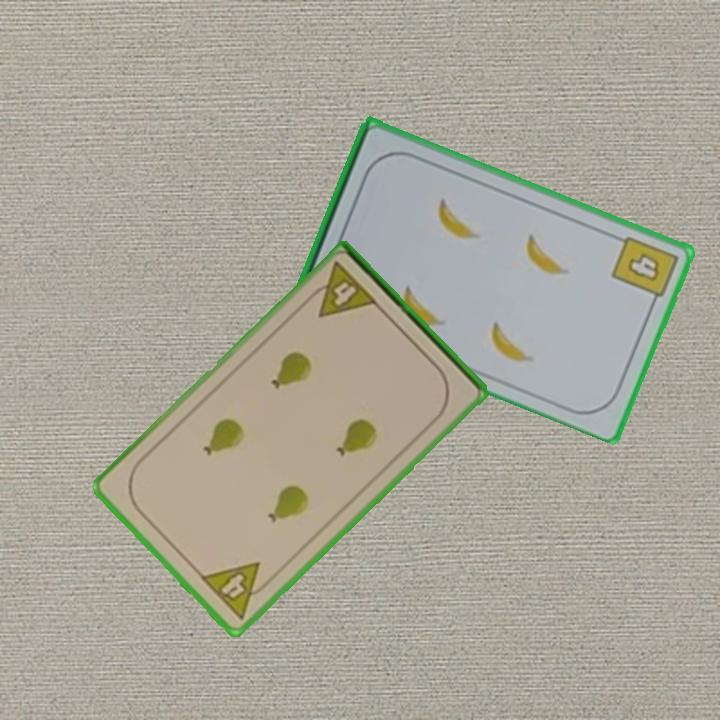4b: (607, 232, 681, 309)
4p: (196, 558, 277, 623), (302, 258, 381, 321)
